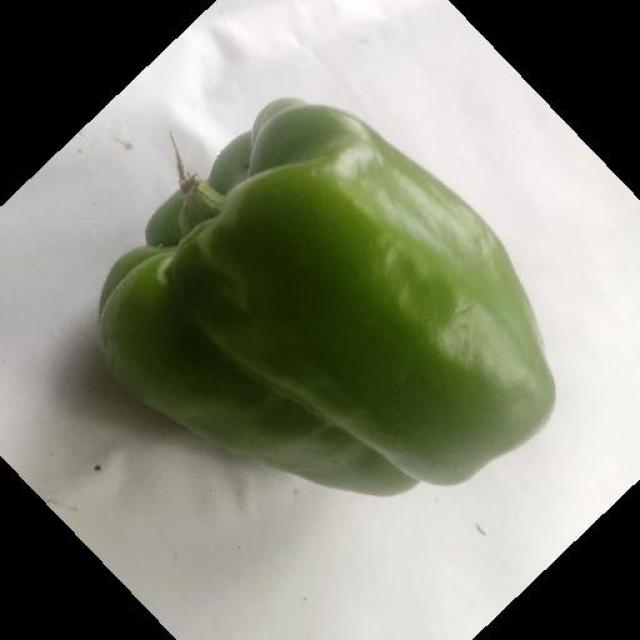Fresh_Capsicum: (74, 106, 581, 493)
